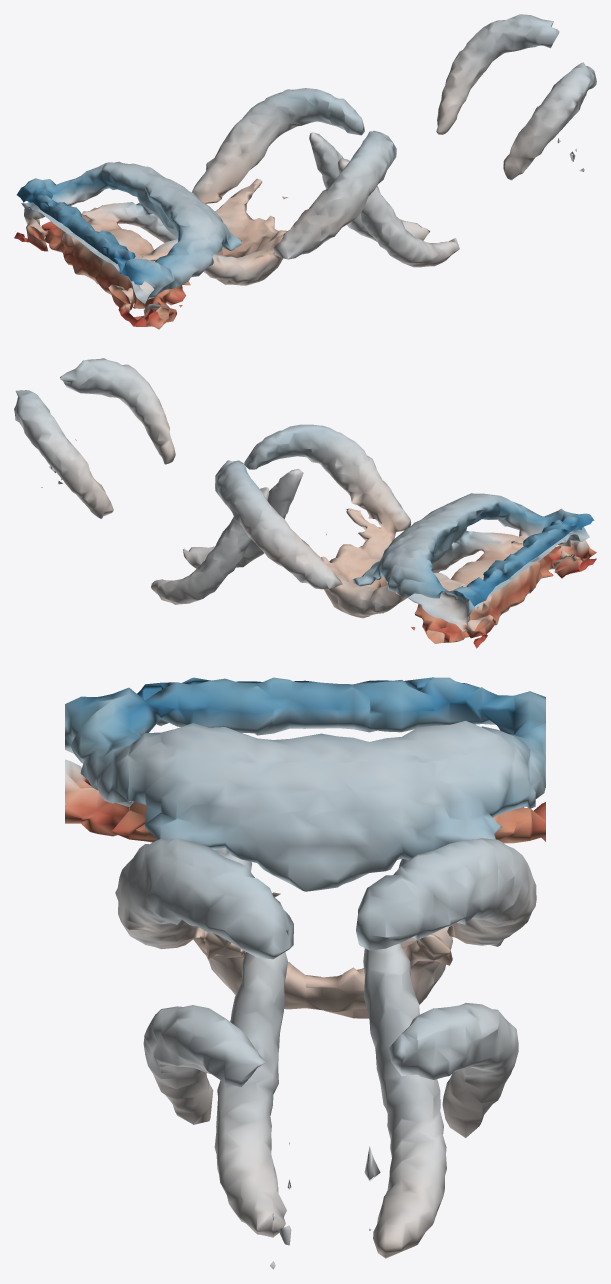
The picture shows the model from 3 angles, top to bottom: view 1: azimuth 30°, elevation 25°; view 2: azimuth 150°, elevation 25°; view 3: azimuth 270°, elevation 25°; orthographic projection. The views are drawn at different scales.
Size of the model in its own units: 5.96 by 2.11 by 2.5.
